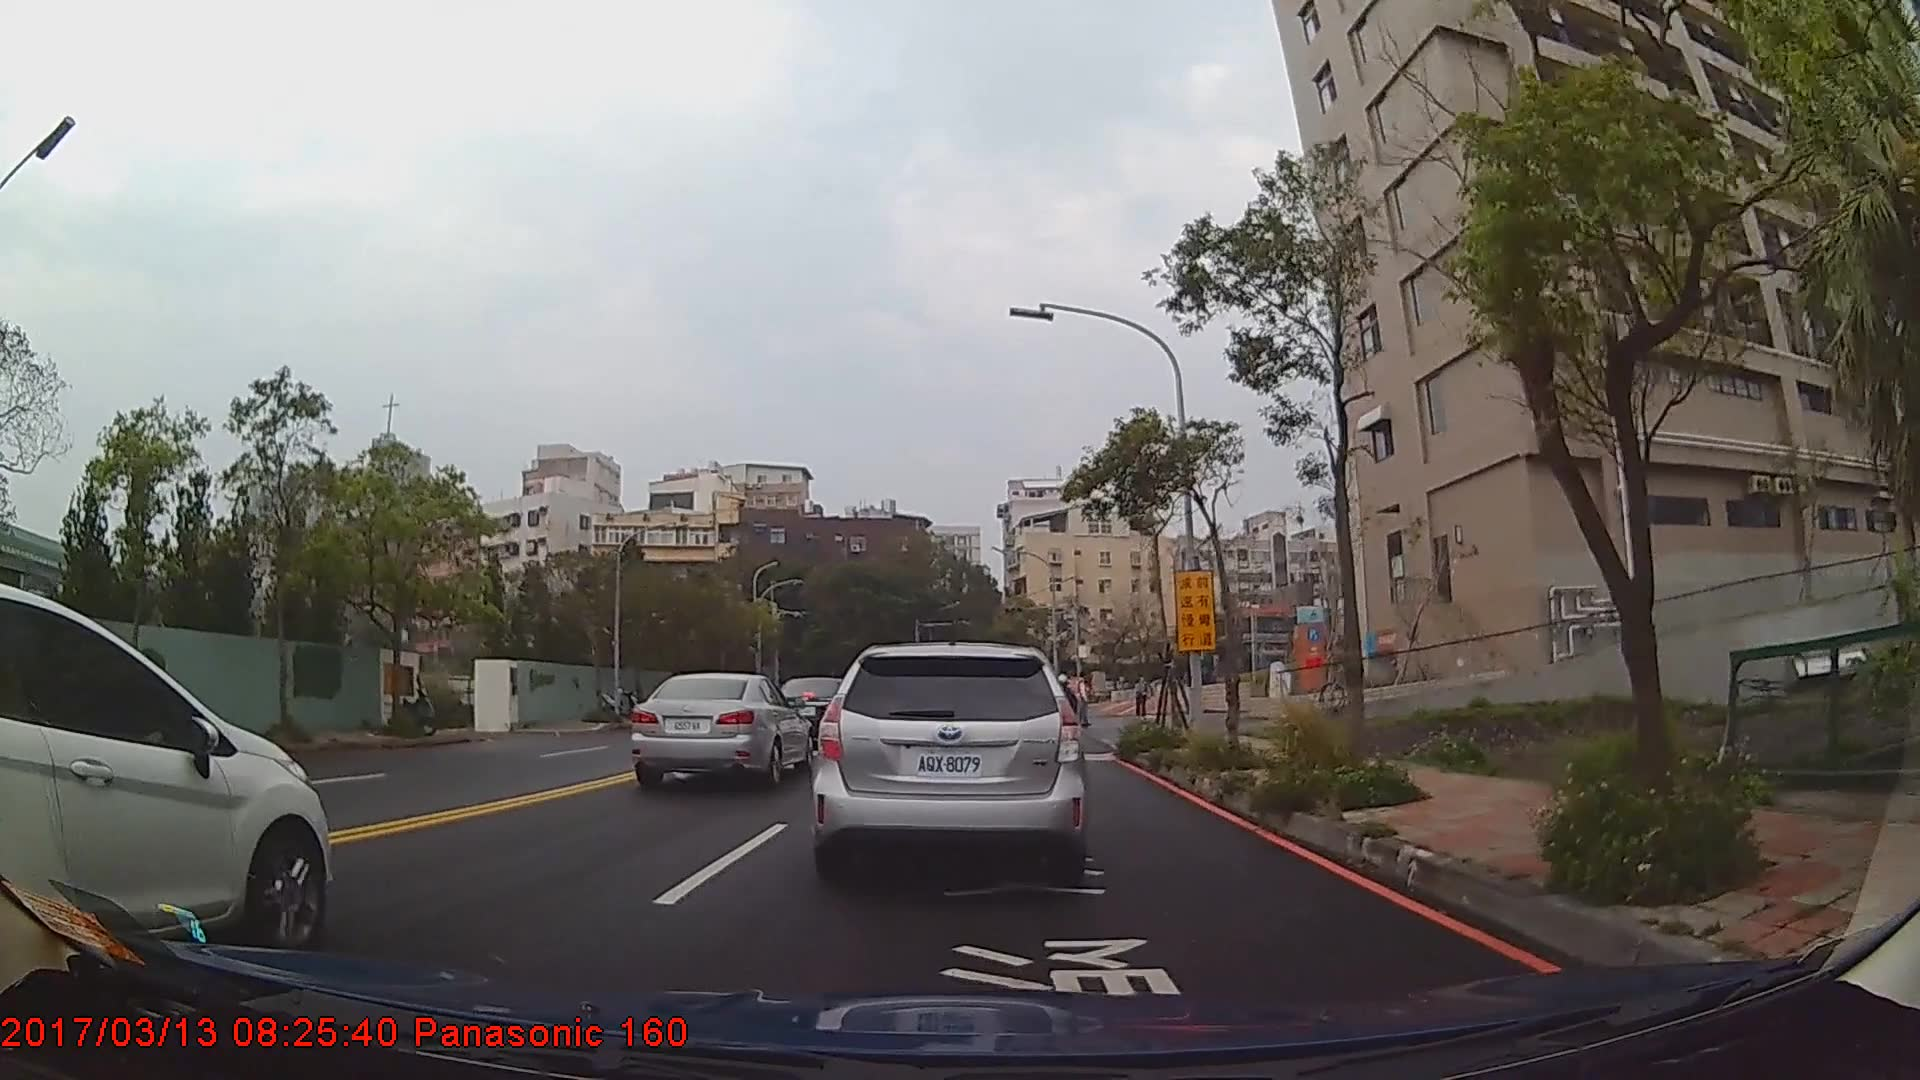pedestrian: (1074, 669, 1094, 727)
vehicle: (0, 578, 332, 961), (813, 638, 1086, 877), (629, 671, 815, 789)
